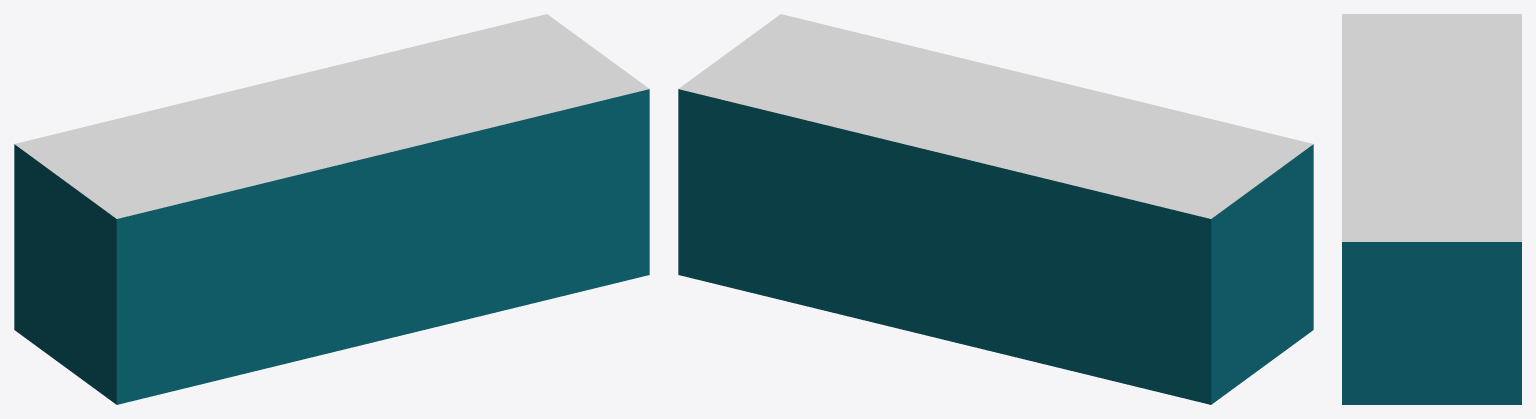
File: standard-long-platform-001 1.fbx
3 views of the same model, side by side, from view 1: azimuth 30°, elevation 25°; view 2: azimuth 150°, elevation 25°; view 3: azimuth 270°, elevation 25° (orthographic). The views are drawn at different scales.
Visible parts, largest first — view 1: Platform-box; view 2: Platform-box; view 3: Platform-box.
Part boxes in pixels (bbox=[...]): Platform-box: bbox=[14, 14, 649, 404]; Platform-box: bbox=[678, 14, 1313, 404]; Platform-box: bbox=[1342, 14, 1521, 404].
Size of the model in its own units: 3000 by 1000 by 1000.
